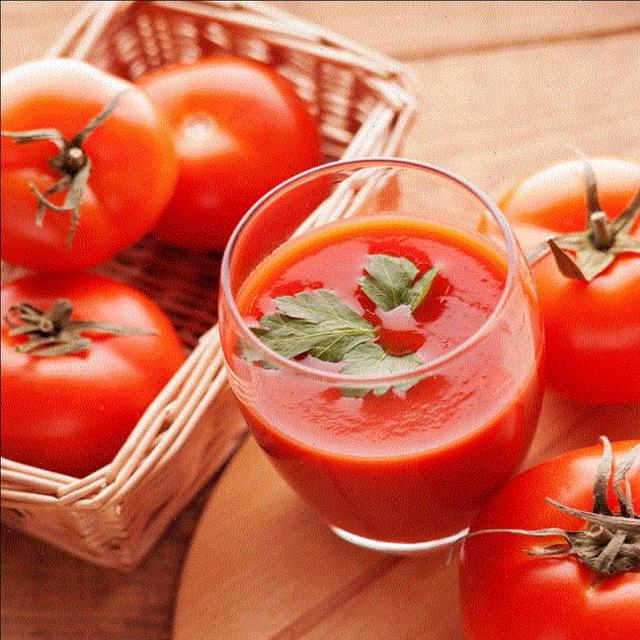Healthy Fruit: (53, 85, 384, 373)
